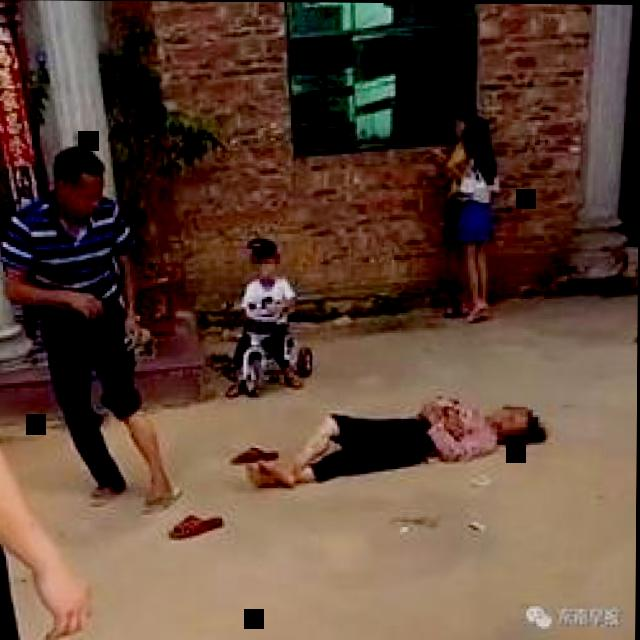Fall-Detected: (223, 372, 544, 490)
